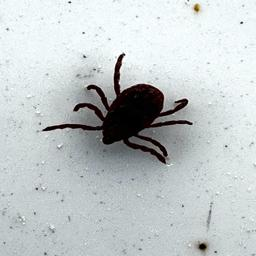Rhipicephalus sanguineus: (39, 52, 193, 165)
